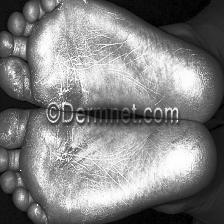Non-Cancerous Skin Condition: (0, 117, 24, 143)
